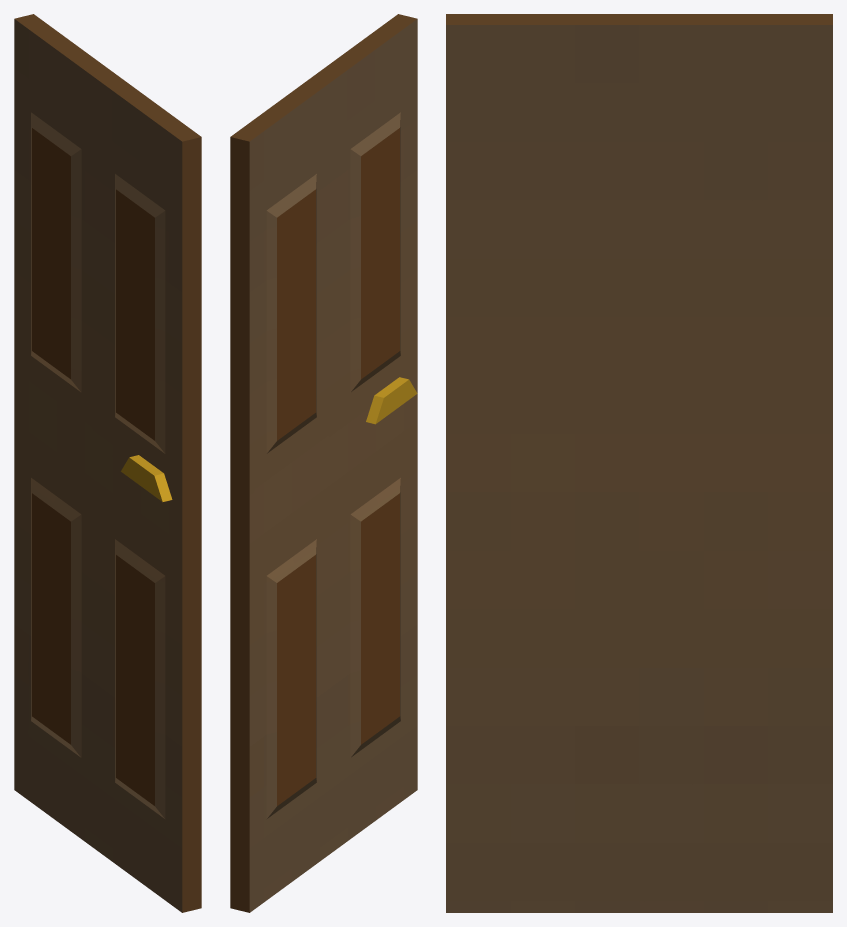
Rendered from Door.fbx.
The picture shows the model from 3 angles, left to right: view 1: azimuth 30°, elevation 25°; view 2: azimuth 150°, elevation 25°; view 3: azimuth 270°, elevation 25°; orthographic projection. The views are drawn at different scales.
Visible parts, largest first — view 1: cuboid; view 2: cuboid; view 3: cuboid.
Boxes of the visible parts, x1=… form: cuboid: x1=14, y1=14, x2=201, y2=912; cuboid: x1=230, y1=14, x2=417, y2=912; cuboid: x1=446, y1=14, x2=832, y2=912.
Size of the model in its own units: 1.88 by 47.5 by 18.75.
Materials: 1 (1 with a texture image).
